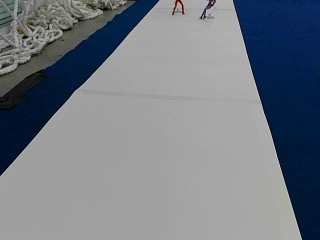pedestrian: (198, 0, 214, 19), (170, 0, 185, 14)
